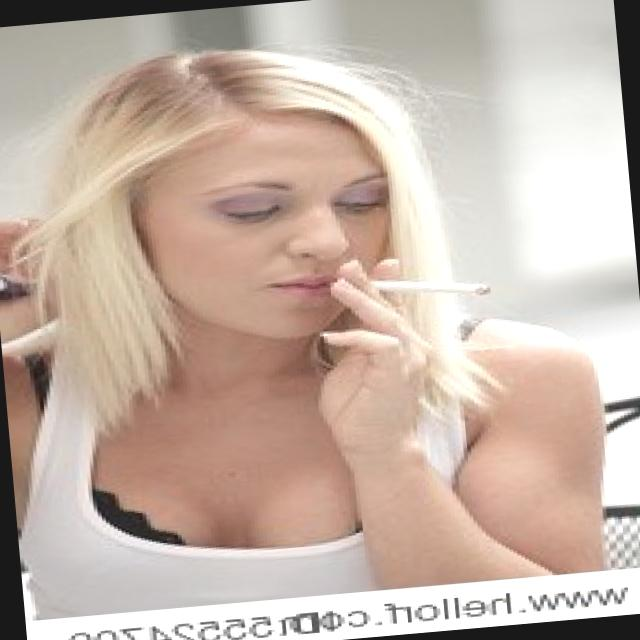cigarette: (362, 264, 501, 314)
